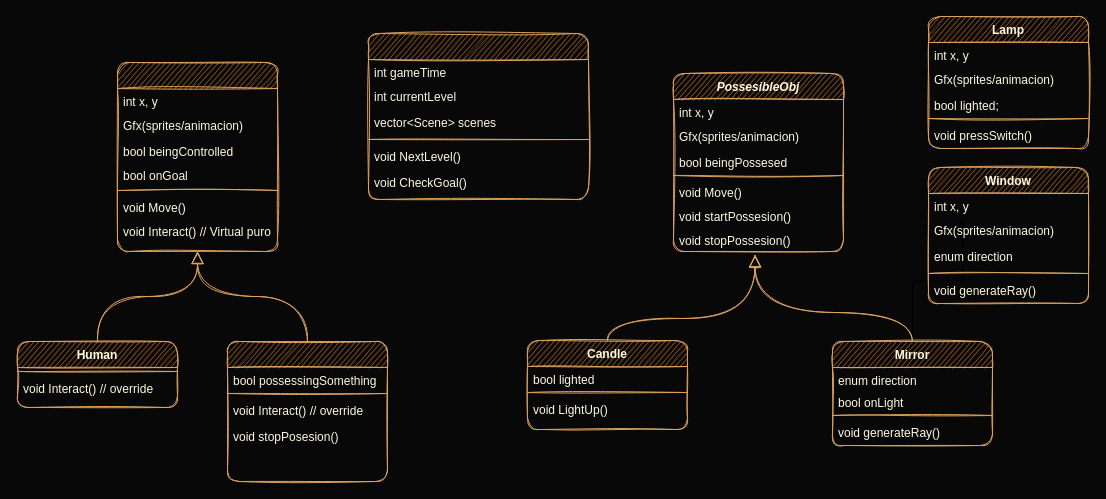
The diagram is 1106 pixels wide and 499 high, and some of its shapes have lost their labels. Here are the shapes that lost their labels. From the top down, the box of each, then its label:
(368, 32, 588, 200): GameManager
(116, 62, 278, 252): Person
(226, 340, 388, 482): Ghost
